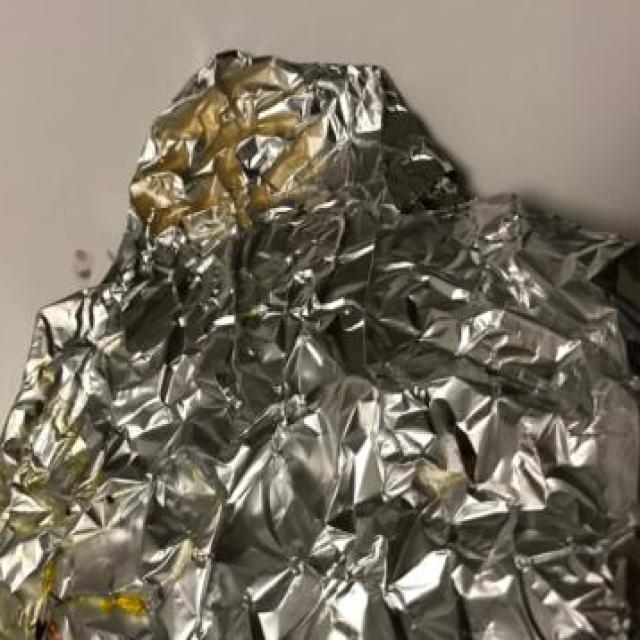organic: (17, 40, 631, 634)
